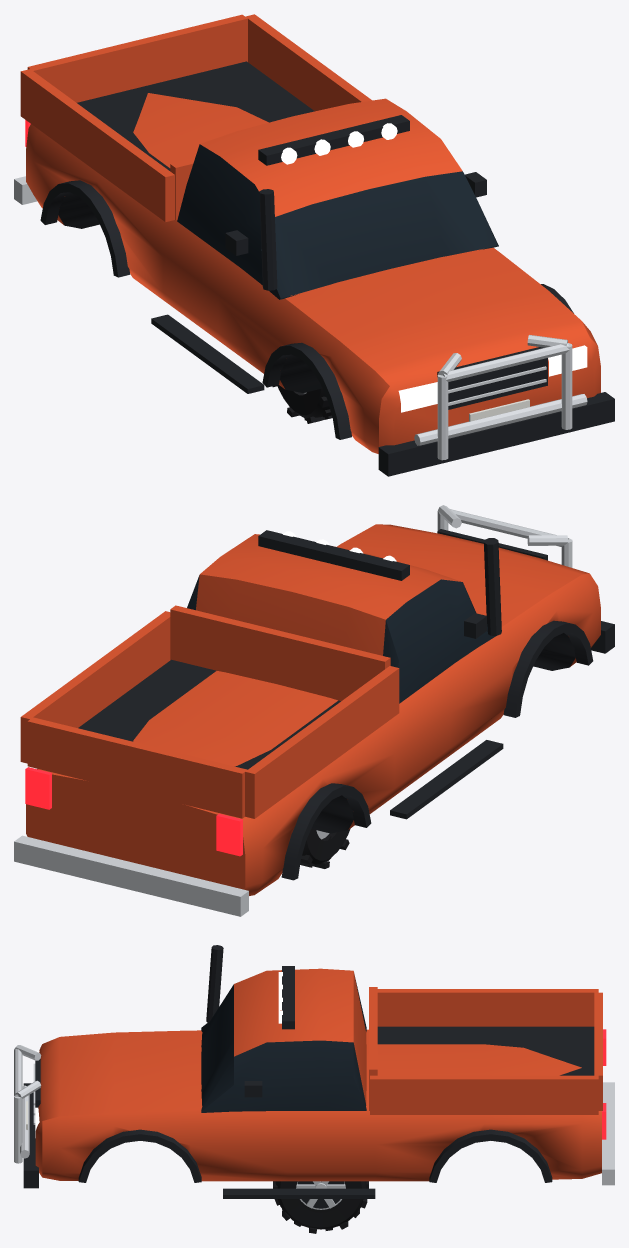
File: pickup.glb
The picture shows the model from 3 angles, top to bottom: view 1: azimuth 30°, elevation 25°; view 2: azimuth 150°, elevation 25°; view 3: azimuth 270°, elevation 25°; orthographic projection. The views are drawn at different scales.
Visible parts, largest first — view 1: body, wheel; view 2: body, wheel; view 3: body, wheel.
Part boxes in pixels (bbox=[...]): body: bbox=[14, 14, 614, 476]; wheel: bbox=[272, 385, 332, 423]; body: bbox=[14, 505, 614, 916]; wheel: bbox=[300, 828, 350, 868]; body: bbox=[14, 945, 614, 1198]; wheel: bbox=[273, 1181, 368, 1233].
Size of the model in its own units: 2.14 by 2.39 by 5.52.
